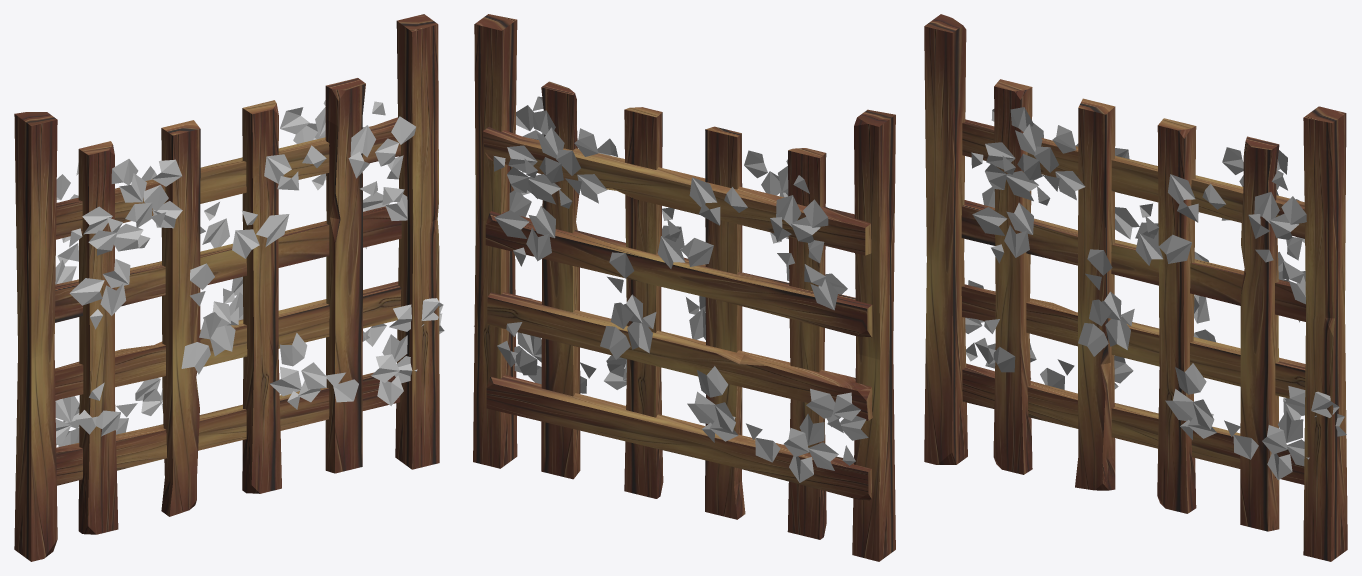
File: FenceFull.fbx
3 renders of one model, left to right at view 1: azimuth 30°, elevation 25°; view 2: azimuth 150°, elevation 25°; view 3: azimuth 330°, elevation 25°, orthographic.
Parts seen in each view (by area): view 1: SM_Prop_Gazebo_Wall_01, SM_Prop_Gazebo_Wall_01_Ivy; view 2: SM_Prop_Gazebo_Wall_01, SM_Prop_Gazebo_Wall_01_Ivy; view 3: SM_Prop_Gazebo_Wall_01, SM_Prop_Gazebo_Wall_01_Ivy.
Boxes of the visible parts, bbox=[...] form: SM_Prop_Gazebo_Wall_01: bbox=[14, 14, 439, 561]; SM_Prop_Gazebo_Wall_01_Ivy: bbox=[55, 100, 444, 446]; SM_Prop_Gazebo_Wall_01: bbox=[473, 14, 895, 561]; SM_Prop_Gazebo_Wall_01_Ivy: bbox=[474, 96, 868, 482]; SM_Prop_Gazebo_Wall_01: bbox=[924, 14, 1347, 561]; SM_Prop_Gazebo_Wall_01_Ivy: bbox=[965, 107, 1346, 480].
Size of the model in its own units: 307 by 307 by 43.53.
